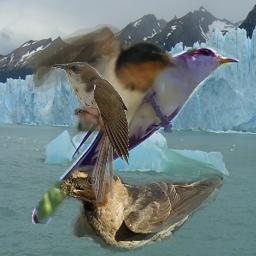Cuckoo: (32, 46, 239, 224), (52, 61, 129, 202)
Swallow: (28, 24, 177, 144), (60, 165, 226, 254)
